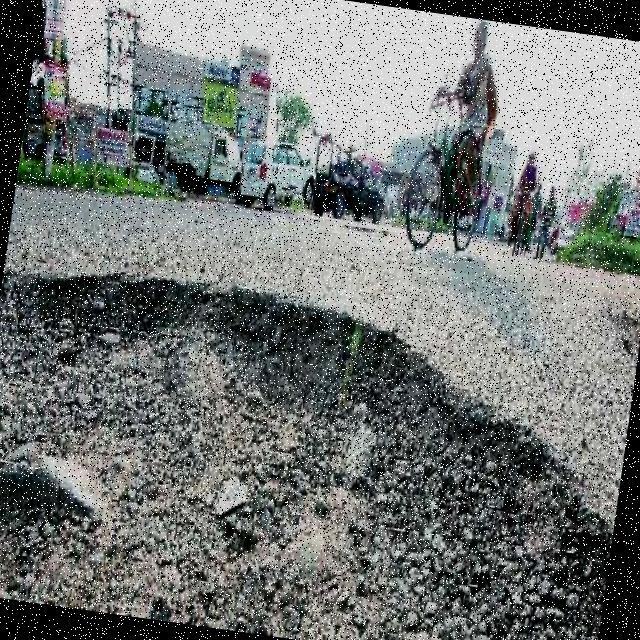Pothole: (0, 272, 614, 640)
